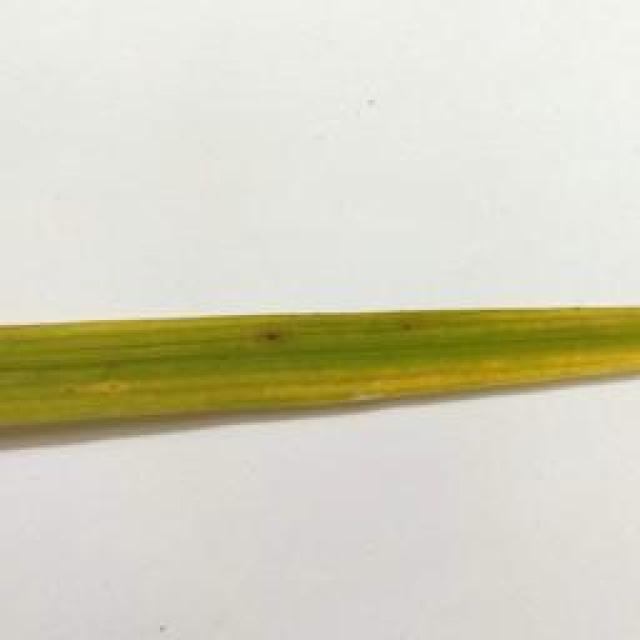Brown_Spot: (250, 330, 285, 360), (376, 320, 438, 335)
